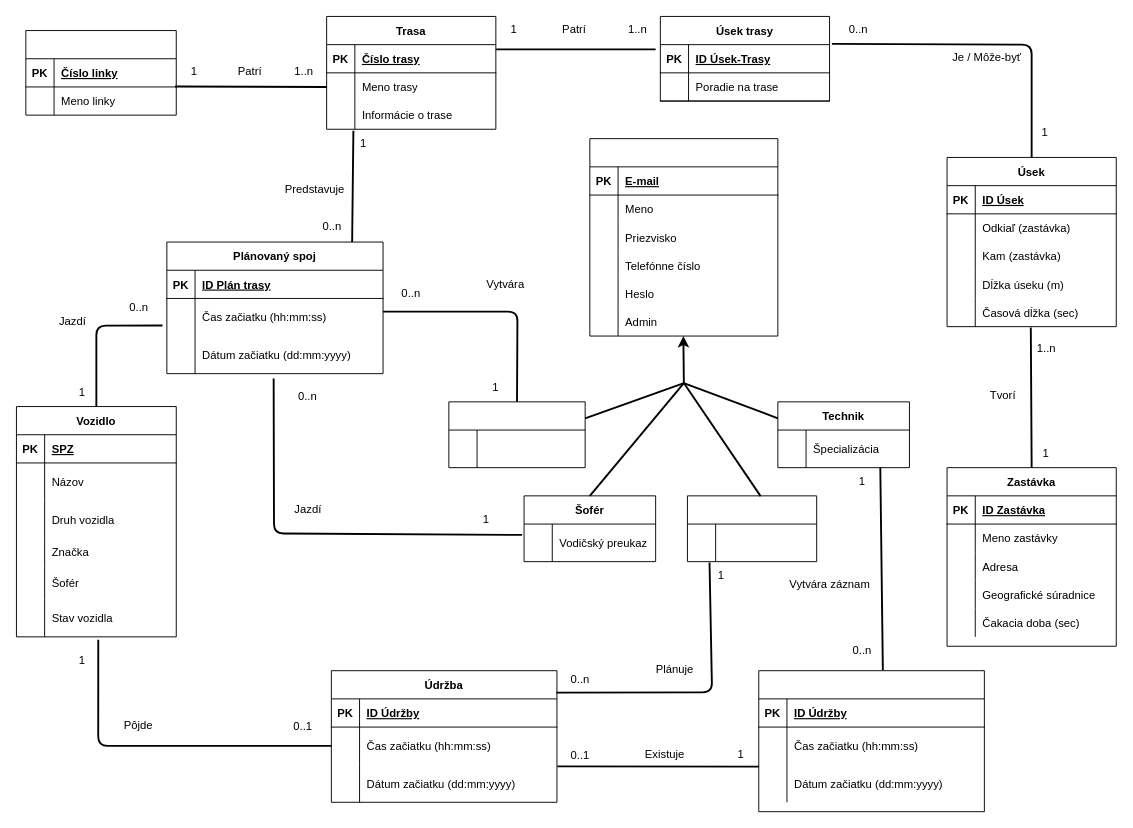
Image size: 1133x828. Some labels were removed from this diagram. Here are the shapes that lost their labels. From the top down, the box of each, then its label:
(25, 30, 176, 115): Linka
(589, 138, 778, 336): Profil uživateľa
(448, 401, 585, 468): Dispečer
(686, 495, 817, 562): Správca
(758, 670, 984, 812): Záznam o údržbe
